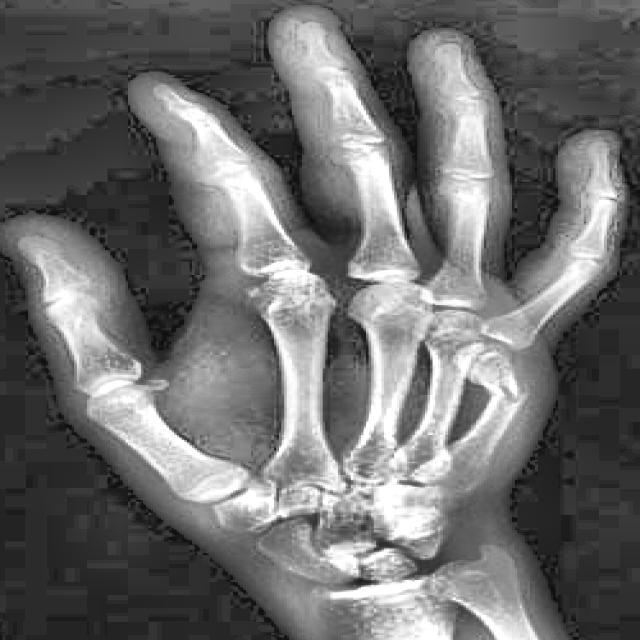fracture: (473, 372, 528, 412)
